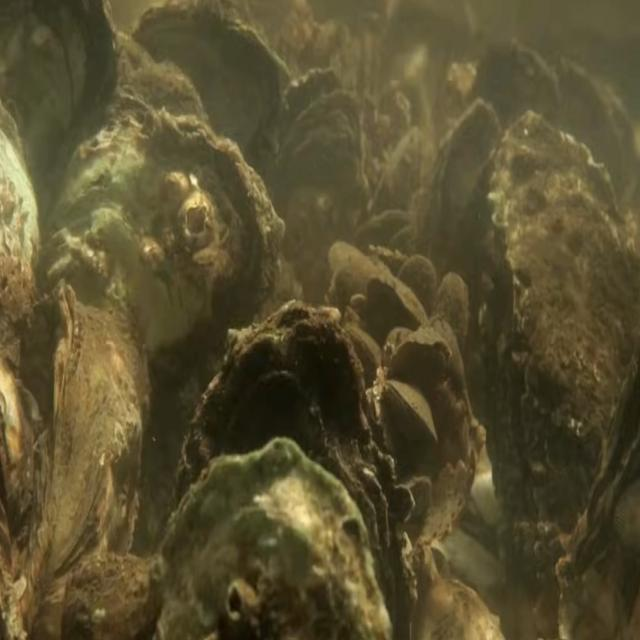Oyster-Closed: (51, 106, 285, 520), (174, 301, 414, 640), (478, 109, 638, 552), (152, 436, 390, 640), (384, 379, 438, 442), (388, 336, 452, 384)
Oyster-Indeterminate: (29, 279, 149, 640), (420, 96, 504, 327), (366, 272, 429, 326), (398, 253, 438, 325), (436, 272, 469, 348)
Oyster-Open: (266, 67, 363, 279)
